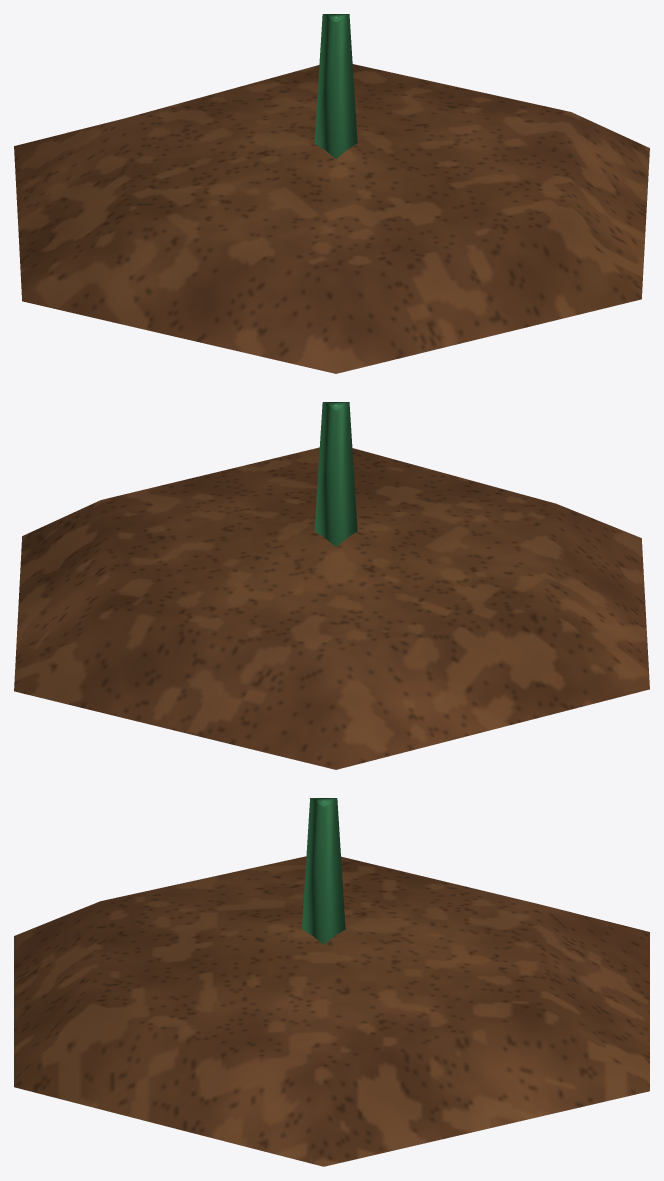
File: plant-blueberry-1-far.glb
The picture shows the model from 3 angles, top to bottom: view 1: azimuth 30°, elevation 25°; view 2: azimuth 150°, elevation 25°; view 3: azimuth 270°, elevation 25°; orthographic projection.
Parts seen in each view (by area): view 1: plant-blueberry-1-far; view 2: plant-blueberry-1-far; view 3: plant-blueberry-1-far.
Boxes of the visible parts, bbox=[...] form: plant-blueberry-1-far: bbox=[14, 14, 649, 373]; plant-blueberry-1-far: bbox=[14, 402, 649, 769]; plant-blueberry-1-far: bbox=[14, 798, 649, 1166].
Size of the model in its own units: 0.84 by 0.2652 by 0.7275.
3 materials, 1 textured.
